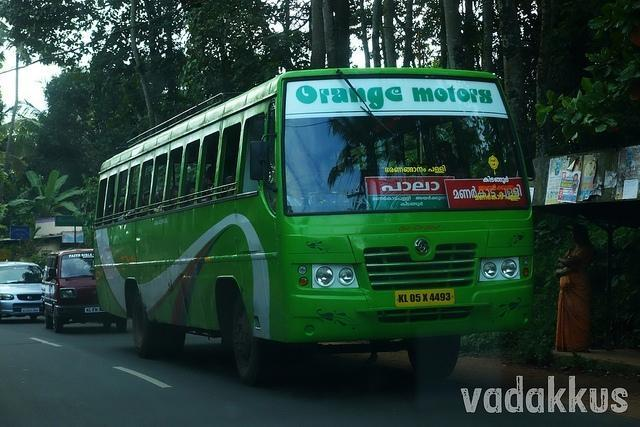bus: (92, 64, 532, 384)
car: (44, 248, 112, 334), (2, 260, 48, 322)
